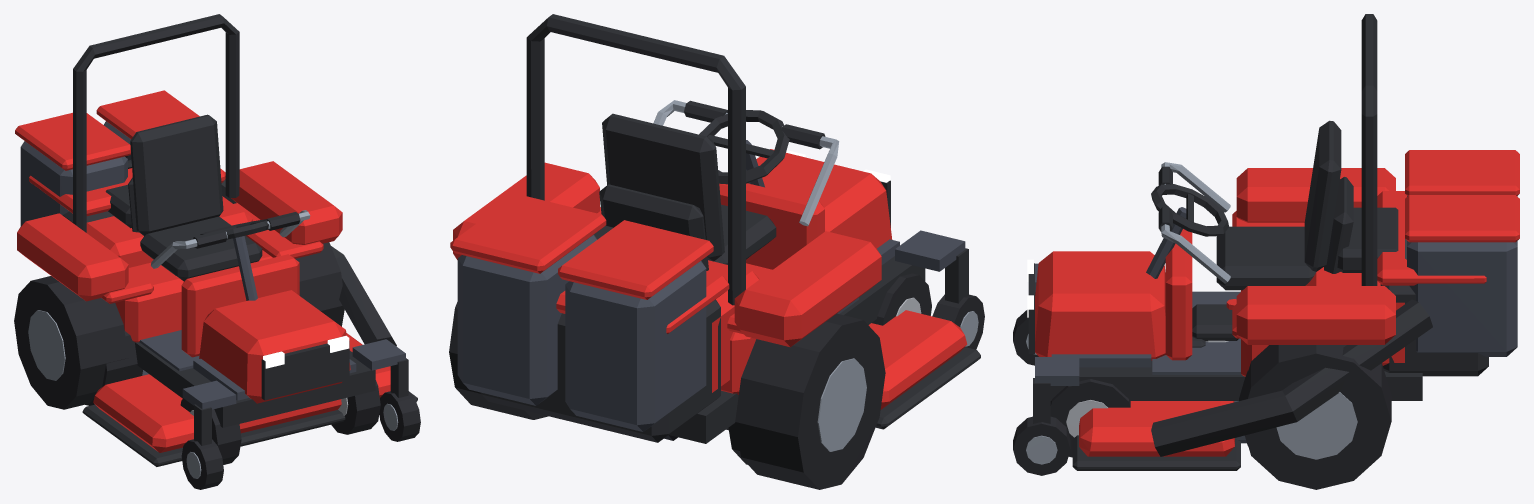
Rendered from mowers.glb.
The picture shows the model from 3 angles, left to right: view 1: azimuth 30°, elevation 25°; view 2: azimuth 150°, elevation 25°; view 3: azimuth 270°, elevation 25°; orthographic projection. The views are drawn at different scales.
Visible parts, largest first — view 1: mower_zeroturn, mower_rideon, mower_zeroturn_wrl, mower_zeroturn_wrr, mower_zeroturn_wfl, mower_zeroturn_wfr, mower_rideon_wfr, mower_rideon_wfl, mower_rideon_wrl, mower_zeroturn_lapl, mower_zeroturn_lapr, mower_rideon_steer; view 2: mower_zeroturn, mower_rideon, mower_zeroturn_wrl, mower_rideon_steer, mower_rideon_wfl, mower_zeroturn_lapl, mower_zeroturn_wfl, mower_zeroturn_wrr, mower_zeroturn_lapr; view 3: mower_zeroturn, mower_rideon, mower_zeroturn_wrr, mower_zeroturn_wfr, mower_rideon_wfr, mower_rideon_steer, mower_petrol, mower_zeroturn_lapr, mower_zeroturn_lapl, mower_zeroturn_wfl.
Boxes of the visible parts, <box> form: mower_zeroturn: <box>15,14,417,466</box>; mower_rideon: <box>29,168,350,403</box>; mower_zeroturn_wrl: <box>14,276,128,409</box>; mower_zeroturn_wrr: <box>295,242,344,326</box>; mower_zeroturn_wfl: <box>181,439,223,489</box>; mower_zeroturn_wfr: <box>379,391,420,441</box>; mower_rideon_wfr: <box>331,380,380,434</box>; mower_rideon_wfl: <box>180,398,241,464</box>; mower_rideon_wrl: <box>85,331,142,405</box>; mower_zeroturn_lapl: <box>151,229,227,268</box>; mower_zeroturn_lapr: <box>266,210,310,237</box>; mower_rideon_steer: <box>200,219,269,239</box>; mower_zeroturn: <box>450,14,980,443</box>; mower_rideon: <box>480,140,892,442</box>; mower_zeroturn_wrl: <box>735,313,885,489</box>; mower_rideon_steer: <box>699,110,789,184</box>; mower_rideon_wfl: <box>872,273,931,325</box>; mower_zeroturn_lapl: <box>781,124,839,226</box>; mower_zeroturn_wfl: <box>932,294,984,349</box>; mower_zeroturn_wrr: <box>449,302,548,419</box>; mower_zeroturn_lapr: <box>653,100,727,125</box>; mower_zeroturn: <box>1033,14,1519,470</box>; mower_rideon: <box>1027,177,1488,443</box>; mower_zeroturn_wrr: <box>1241,345,1391,489</box>; mower_zeroturn_wfr: <box>1013,416,1070,475</box>; mower_rideon_wfr: <box>1050,379,1130,457</box>; mower_rideon_steer: <box>1151,184,1229,236</box>; mower_petrol: <box>1192,299,1238,347</box>; mower_zeroturn_lapr: <box>1158,207,1230,283</box>; mower_zeroturn_lapl: <box>1158,162,1230,212</box>; mower_zeroturn_wfl: <box>1013,310,1038,365</box>.
Size of the model in its own units: 1.71 by 1.83 by 2.29.
